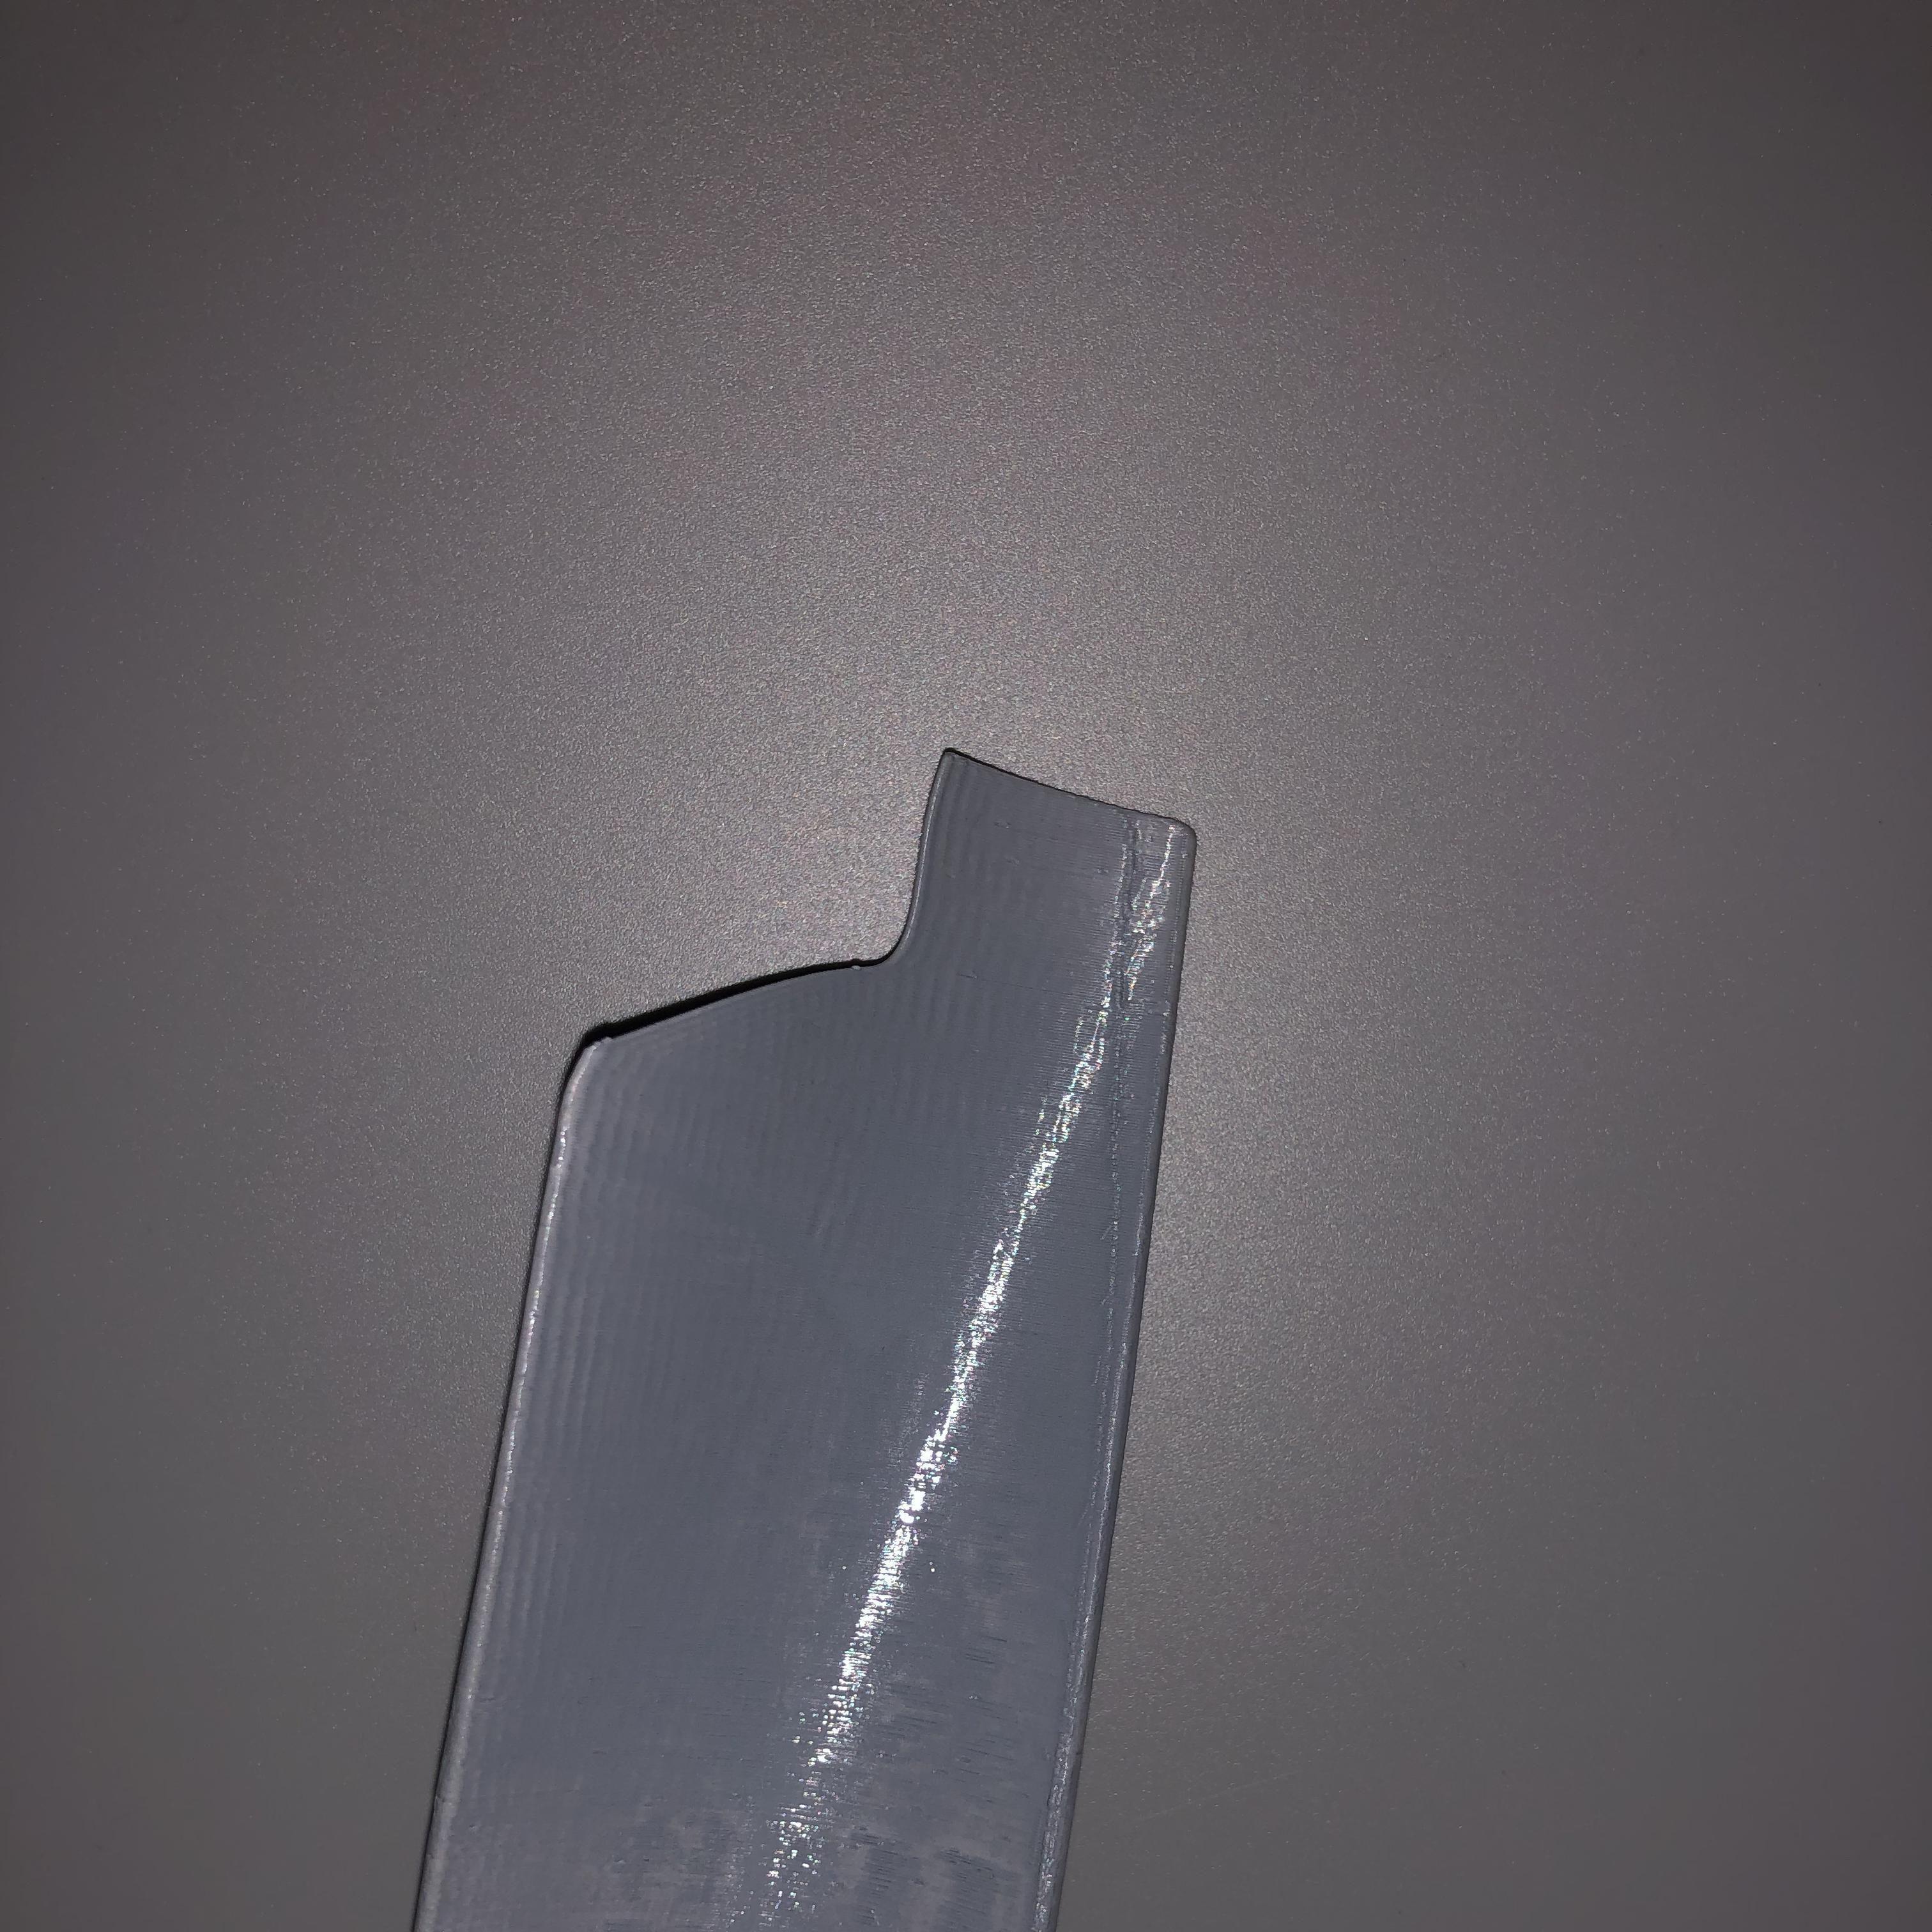fracture: (587, 784, 1003, 1093)
